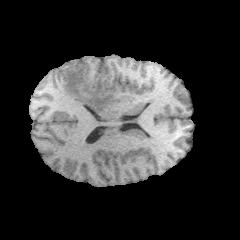glioma: (63, 66, 120, 112)
